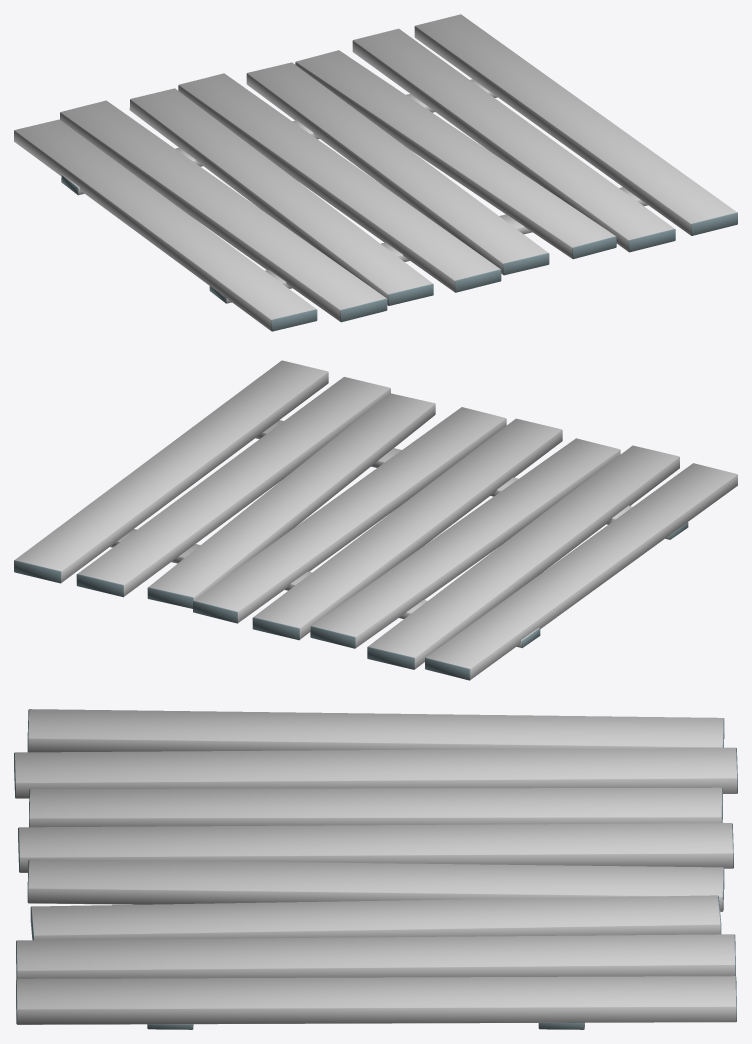
The model's file is WoodDeck.fbx.
3 renders of one model, top to bottom at view 1: azimuth 30°, elevation 25°; view 2: azimuth 150°, elevation 25°; view 3: azimuth 270°, elevation 25°, orthographic. The views are drawn at different scales.
Visible parts, largest first — view 1: WoodDeck; view 2: WoodDeck; view 3: WoodDeck.
Part boxes in pixels (<box>): WoodDeck: <box>14,14,737,331</box>; WoodDeck: <box>14,360,737,680</box>; WoodDeck: <box>14,709,737,1029</box>.
Size of the model in its own units: 3.98 by 0.1784 by 4.09.
